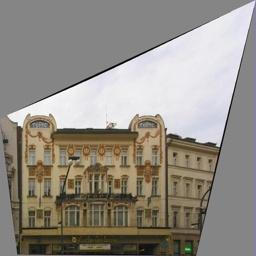building: (17, 101, 167, 256)
